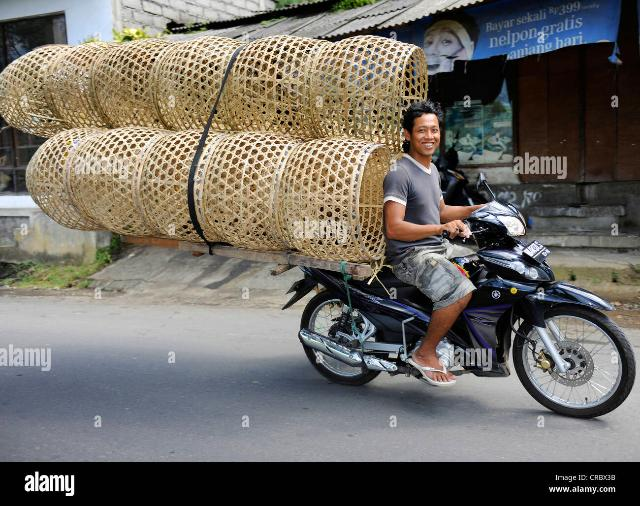motor: (283, 205, 637, 420)
non-helm: (403, 104, 441, 157)
